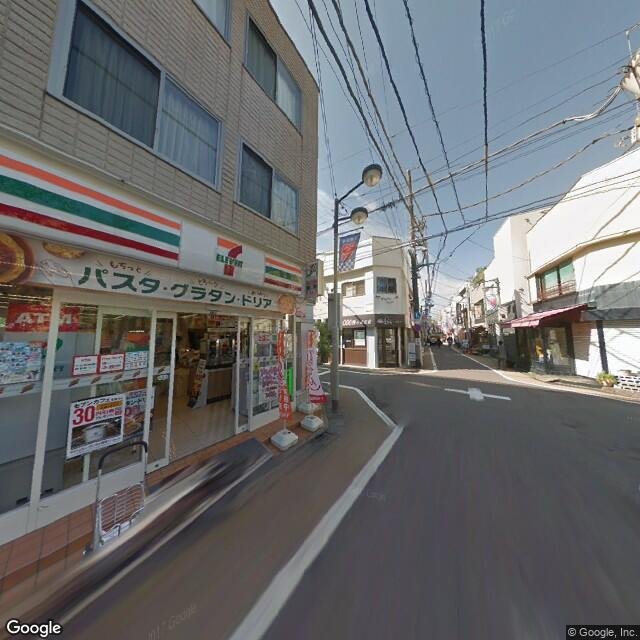7-eleven: (1, 145, 308, 302)
